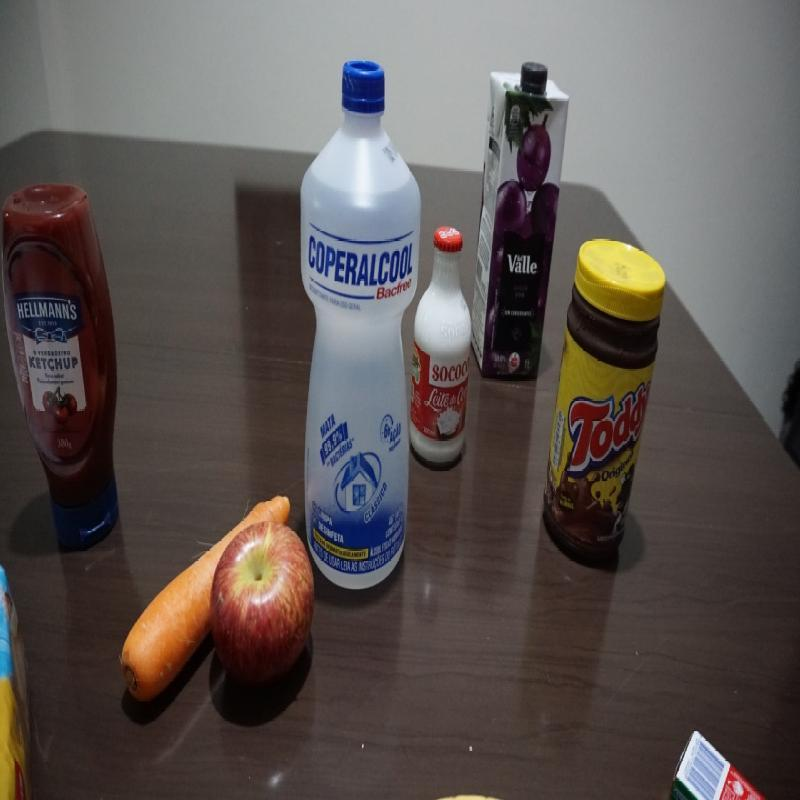Alcohol Bottle: (299, 60, 422, 600)
Apple: (210, 519, 316, 688)
Carrot: (115, 561, 210, 709)
Chocolate Powder: (541, 237, 665, 565)
Coconut Milk: (409, 224, 472, 468)
Cracker: (1, 563, 27, 798)
Ketchup: (1, 182, 124, 553)
Toothpaste: (665, 727, 767, 799)
